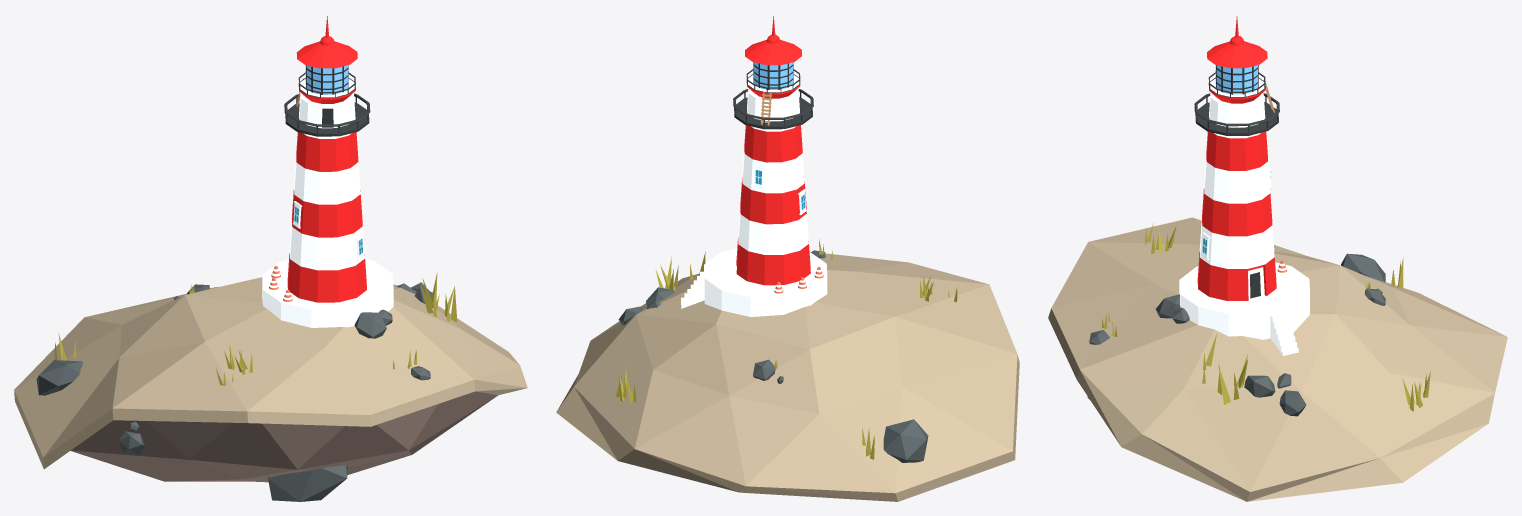
File: lightHouse.dae
3 renders of one model, left to right at view 1: azimuth 30°, elevation 25°; view 2: azimuth 150°, elevation 25°; view 3: azimuth 270°, elevation 25°, orthographic. The views are drawn at different scales.
Visible parts, largest first — view 1: island, lighthouse; view 2: island, lighthouse; view 3: island, lighthouse.
Part boxes in pixels (x1,y1,x2,y2): island: [14, 272, 527, 501]; lighthouse: [262, 16, 393, 327]; island: [556, 239, 1019, 501]; lighthouse: [681, 16, 827, 316]; island: [1048, 217, 1507, 501]; lighthouse: [1179, 16, 1309, 355].
Size of the model in its own units: 7.06 by 6.16 by 6.92.
